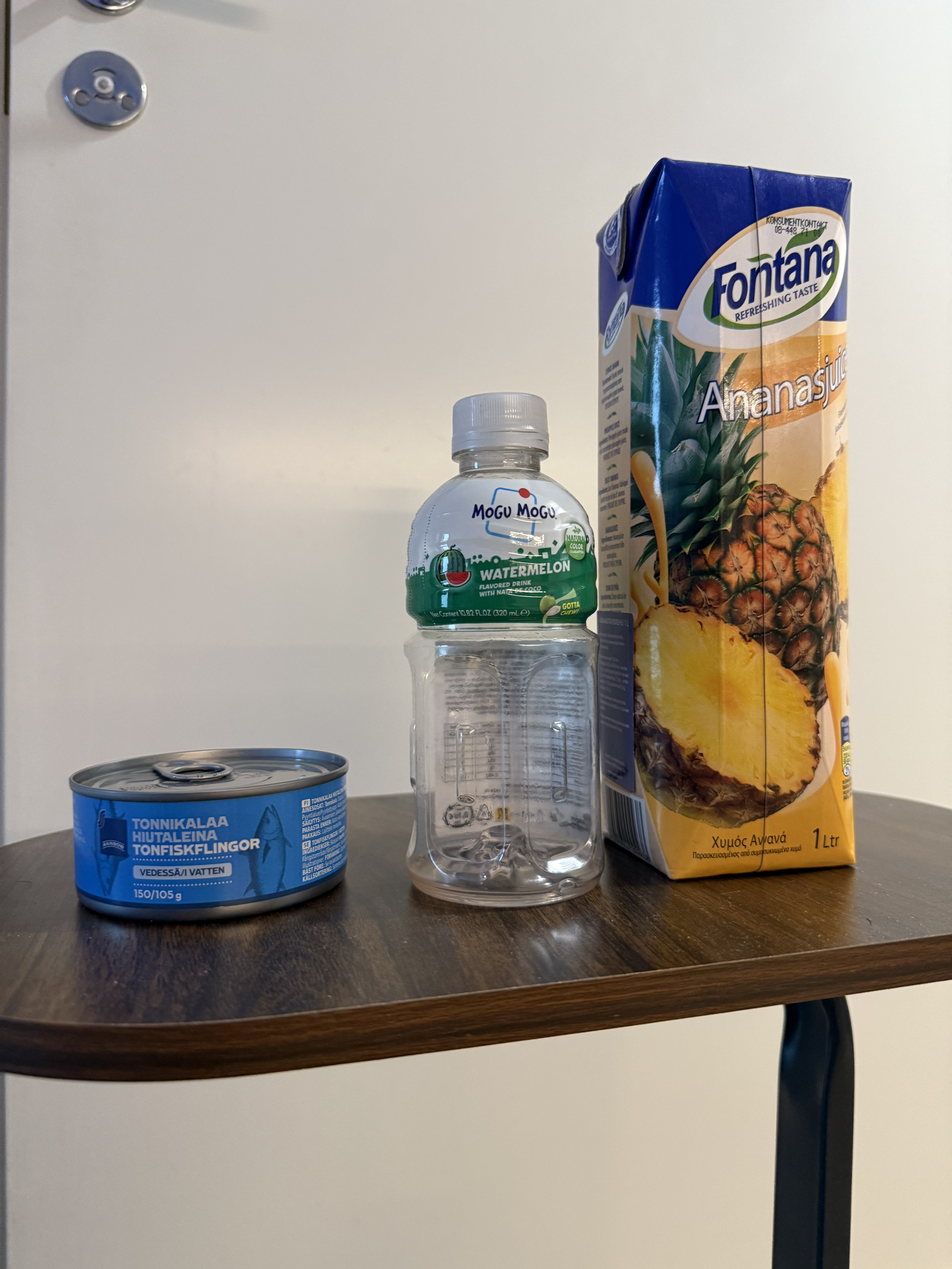Dryckeskartong: (602, 165, 866, 882)
Konservburk: (66, 750, 346, 914)
Pantburk: (402, 382, 600, 913)
